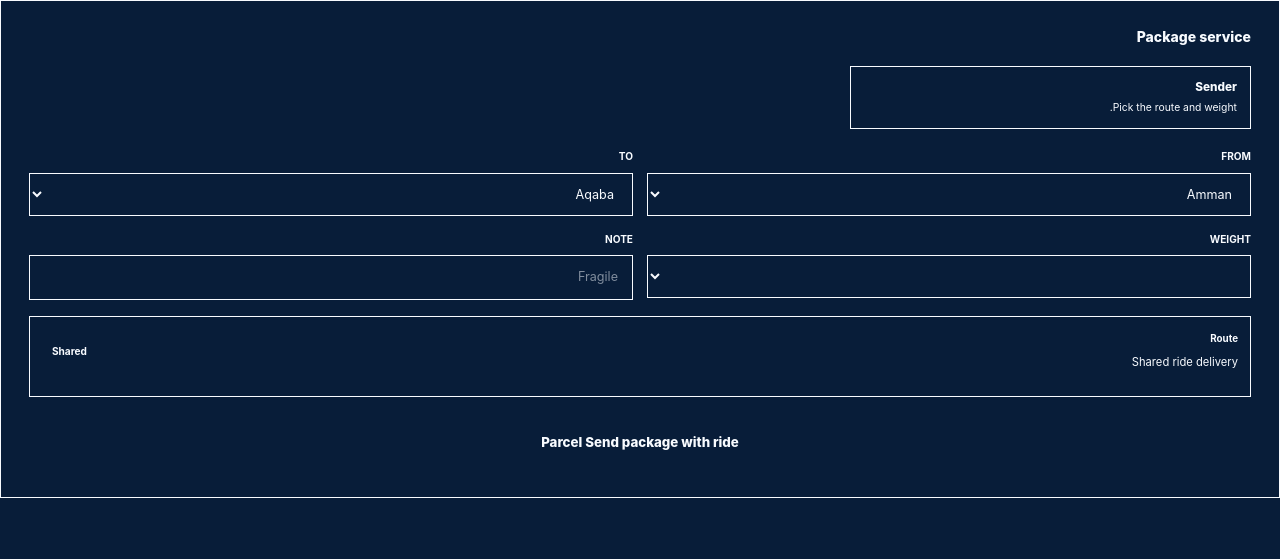
it: FindRidePackagePanel › creates a real connected package and surfaces the real tracking id
Click the button "Parcel Send package with ride": click(640, 443) 29,417 -> 1251,469
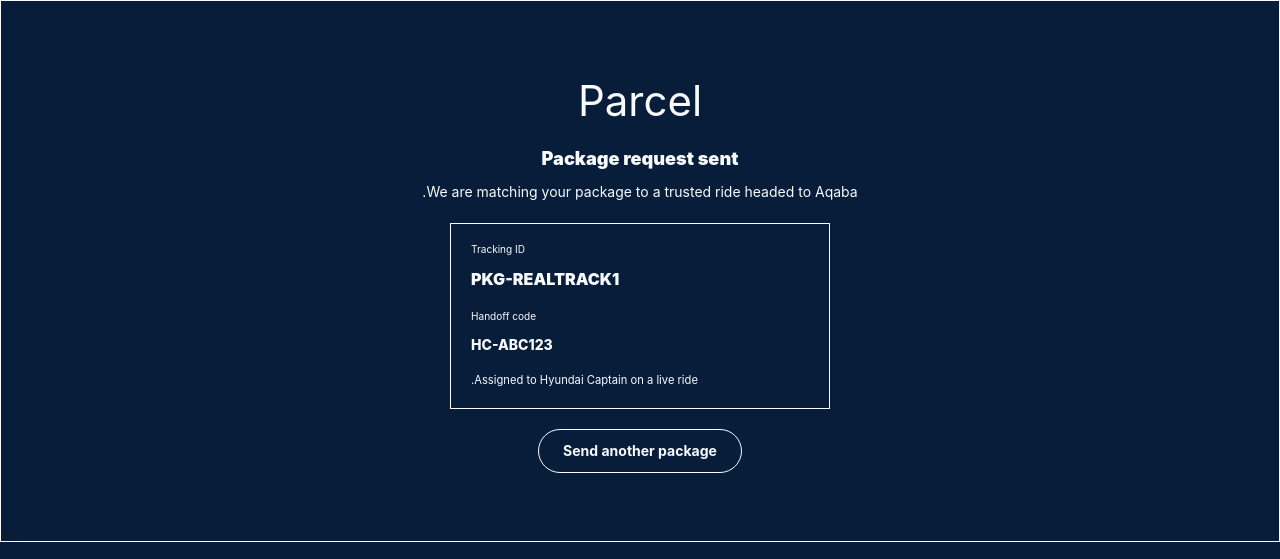
Expected: the text with test id "find-ride-package-tracking-id" reads "PKG-REALTRACK1", 471,269 -> 619,289
Expected: the text "HC-ABC123" is shown, 471,336 -> 553,353
